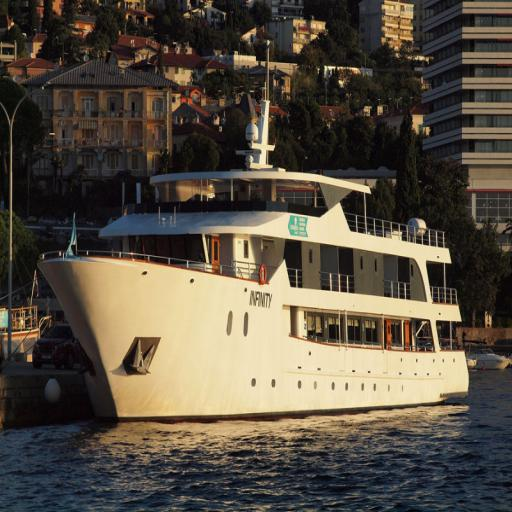cruises: (33, 99, 477, 430)
